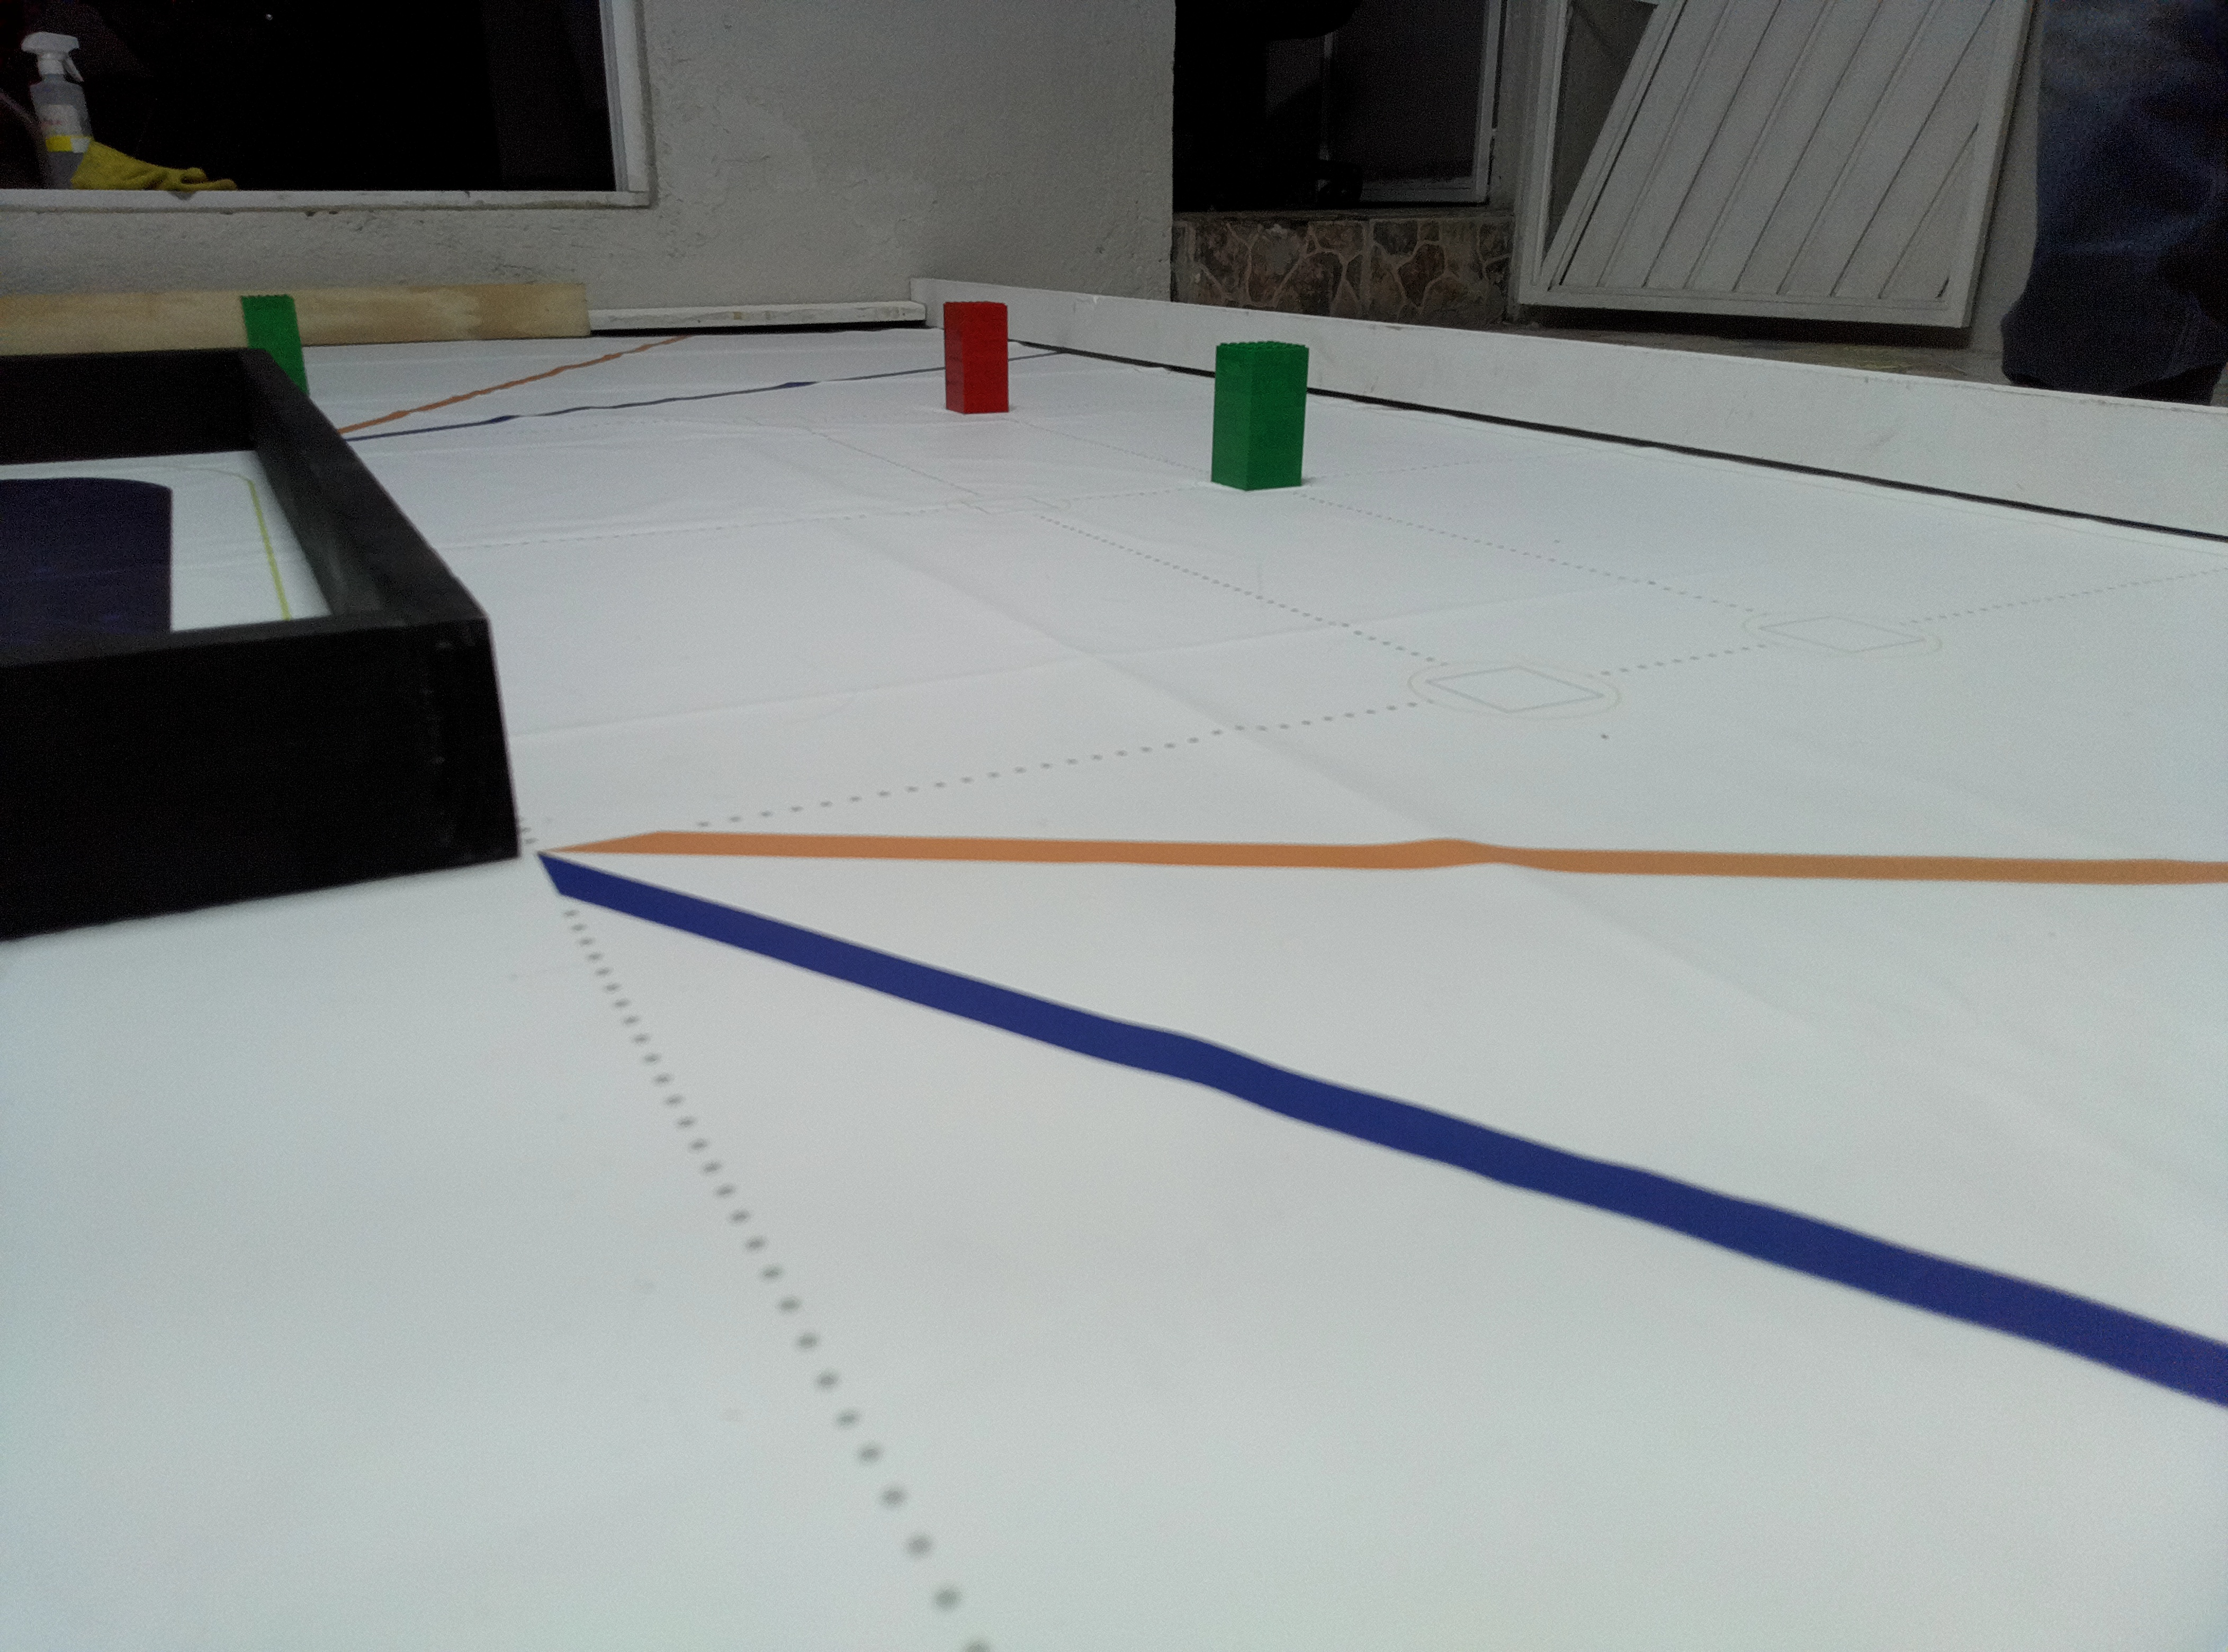greenbox: (1207, 339, 1311, 493), (238, 294, 315, 399)
redbox: (939, 299, 1011, 416)
